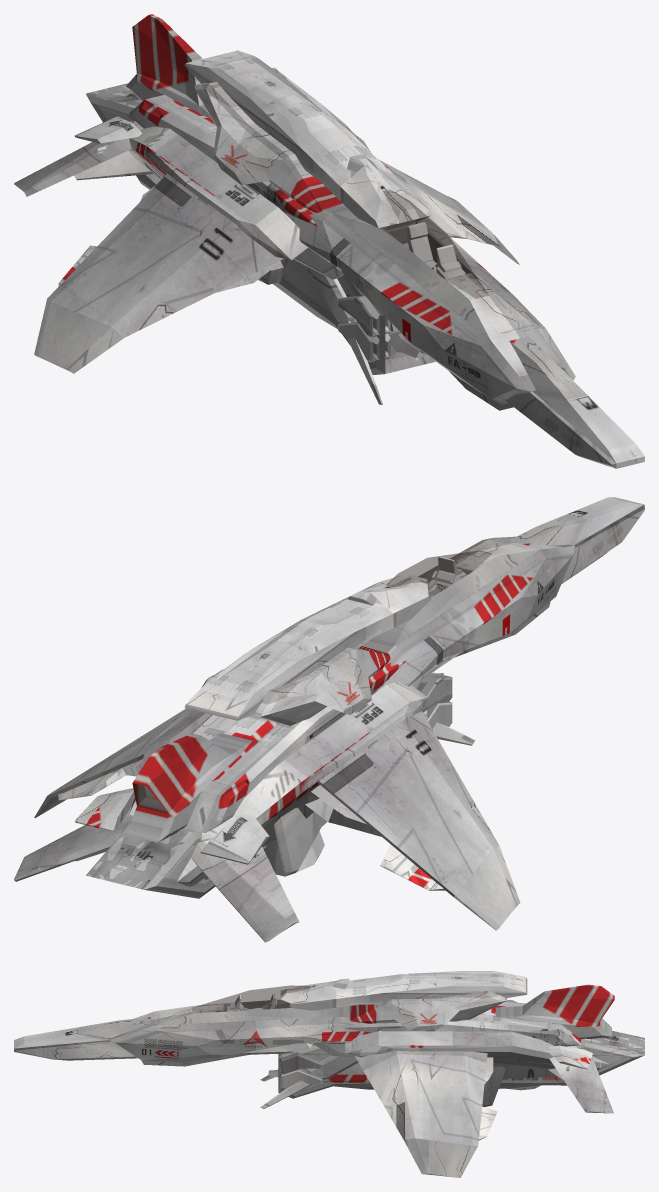
File: omega_fighter.FBX
The picture shows the model from 3 angles, top to bottom: view 1: azimuth 30°, elevation 25°; view 2: azimuth 150°, elevation 25°; view 3: azimuth 270°, elevation 25°; orthographic projection. The views are drawn at different scales.
Parts seen in each view (by area): view 1: Line016, Line032, fighter; view 2: Line016, Line032, fighter; view 3: Line016, Line032, fighter.
Part boxes in pixels (<box>): Line016: <box>14,14,644,468</box>; Line032: <box>383,189,488,298</box>; fighter: <box>406,222,465,278</box>; Line016: <box>14,497,644,942</box>; Line032: <box>386,550,491,597</box>; fighter: <box>408,556,466,597</box>; Line016: <box>14,971,644,1177</box>; Line032: <box>193,985,310,1011</box>; fighter: <box>224,993,276,1011</box>.
Bounding box in the file's own units: 117 × 52.46 × 226.
